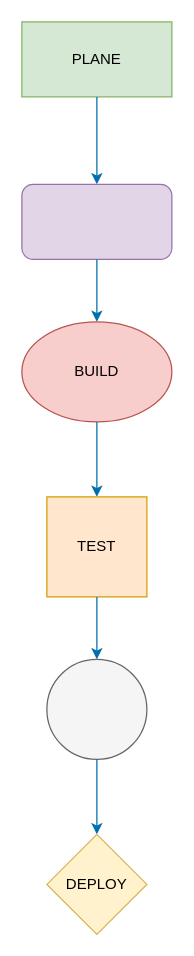
The diagram is 194 pixels wide and 956 high, and some of its shapes have lost their labels. The box of each missing label's shape, as (x1, y1, x2, y2) in pixels:
DEVLOP: (21, 183, 172, 259)
RELEASE: (46, 658, 147, 759)
